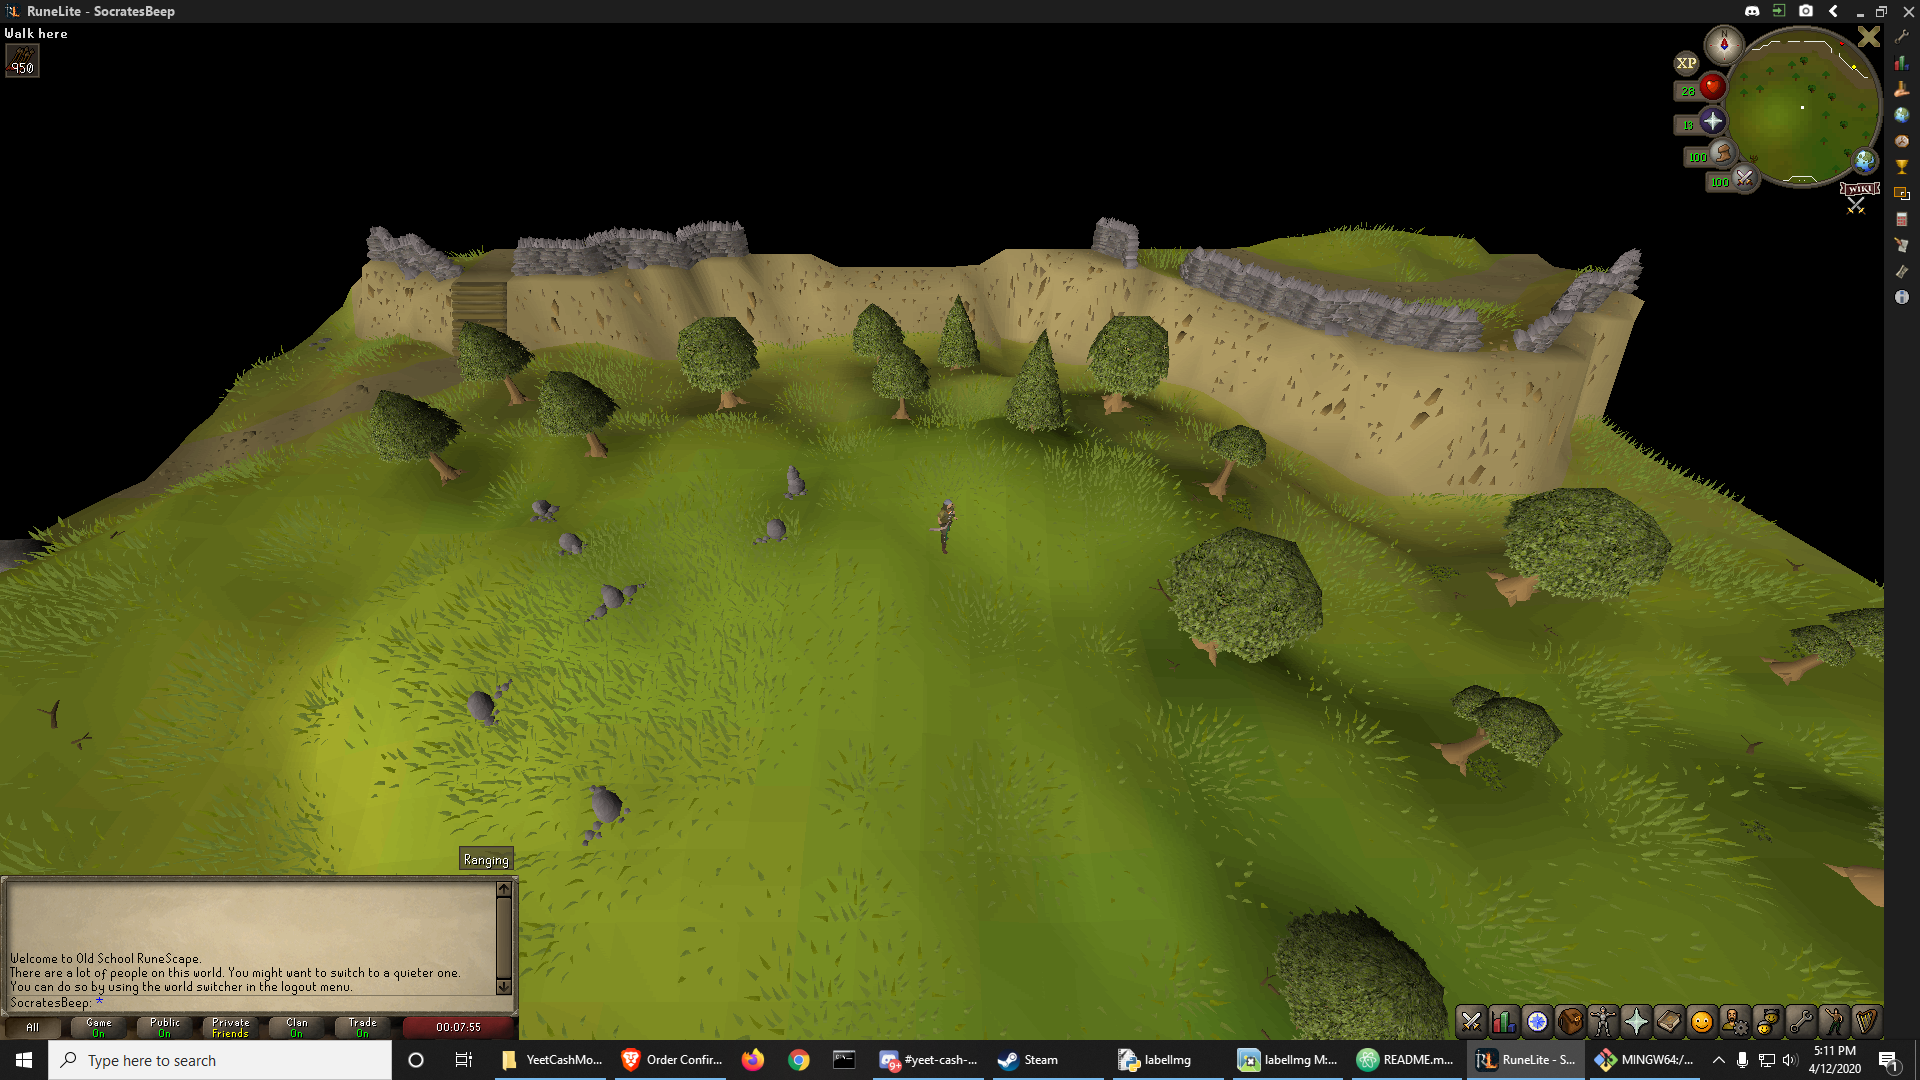rs_chat_All: (13, 1018, 55, 1035)
rs_chat_Clan: (282, 1015, 313, 1038)
rs_chat_Game: (83, 1017, 119, 1039)
rs_chat_Private: (208, 1017, 251, 1039)
rs_chat_Public: (146, 1015, 183, 1038)
rs_chat_Trade: (347, 1017, 380, 1038)
rs_exit: (1853, 26, 1880, 51)
rs_map: (1851, 145, 1879, 175)
